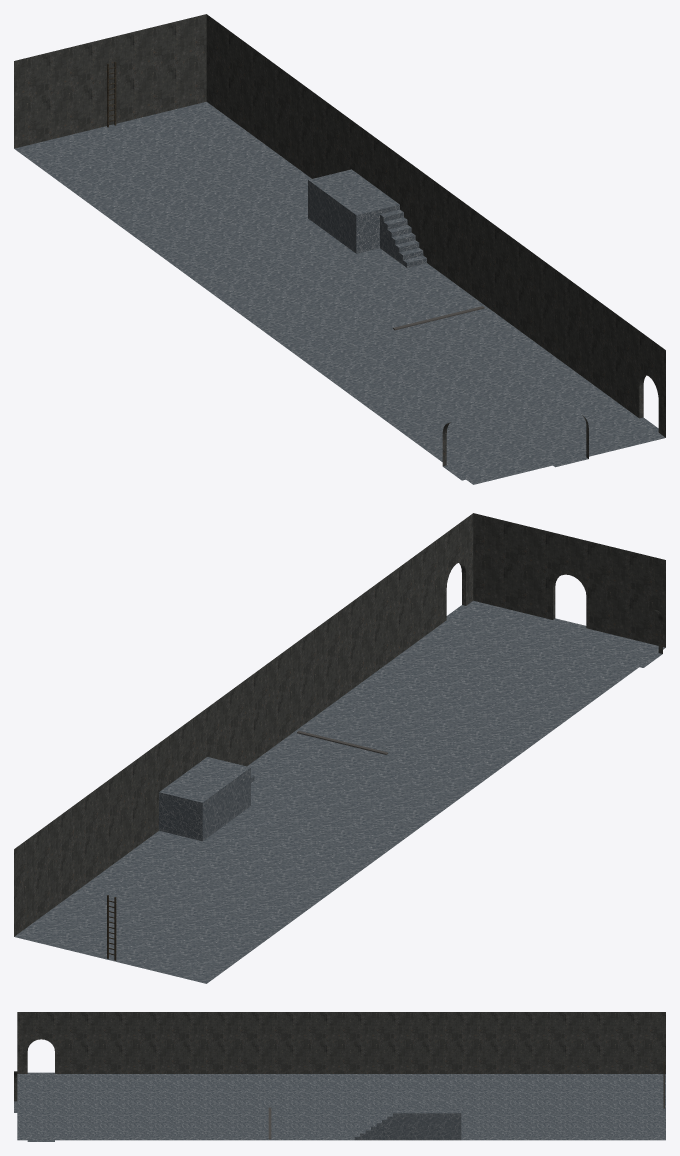
File: rumors-vault.af26e137.gltf
3 renders of one model, top to bottom at view 1: azimuth 30°, elevation 25°; view 2: azimuth 150°, elevation 25°; view 3: azimuth 270°, elevation 25°, orthographic. The views are drawn at different scales.
Parts seen in each view (by area): view 1: rumors-vault-mesh; view 2: rumors-vault-mesh; view 3: rumors-vault-mesh.
Part boxes in pixels (x1,y1,x2,y2): rumors-vault-mesh: (14, 14, 665, 484); rumors-vault-mesh: (14, 513, 665, 983); rumors-vault-mesh: (14, 1012, 665, 1141).
Size of the model in its own units: 12 by 5 by 47.75.
4 materials, 3 textured.
